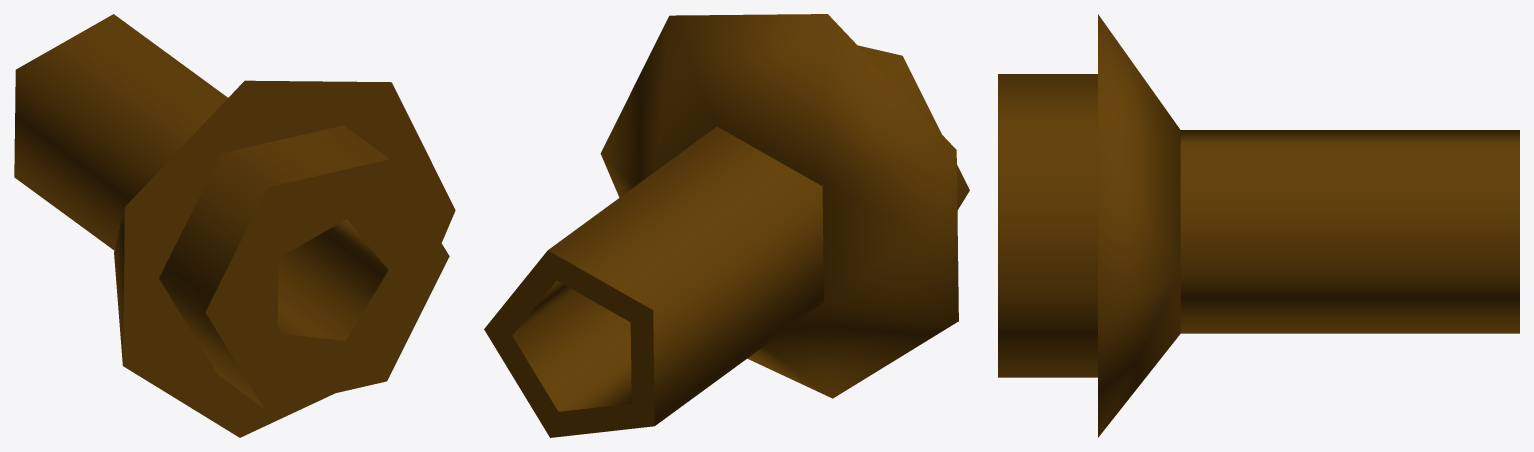
Rendered from Siete Roue dente_Roue etoile Heures.obj.
3 renders of one model, left to right at view 1: azimuth 30°, elevation 25°; view 2: azimuth 150°, elevation 25°; view 3: azimuth 270°, elevation 25°, orthographic. The views are drawn at different scales.
Visible parts, largest first — view 1: Face_4, Face_6, Face_2, Face_5, Face_7, Face_3; view 2: Face_3, Face_2, Face_1, Face_7, Face_5; view 3: Face_2, Face_5, Face_3.
Part boxes in pixels (bbox=[...]): Face_4: bbox=[123, 80, 455, 437]; Face_6: bbox=[205, 159, 449, 409]; Face_2: bbox=[14, 14, 227, 250]; Face_5: bbox=[159, 125, 389, 408]; Face_7: bbox=[277, 219, 388, 340]; Face_3: bbox=[114, 207, 124, 365]; Face_3: bbox=[600, 14, 958, 398]; Face_2: bbox=[548, 126, 823, 425]; Face_1: bbox=[484, 250, 654, 437]; Face_7: bbox=[512, 281, 631, 411]; Face_5: bbox=[858, 45, 969, 209]; Face_2: bbox=[1180, 130, 1519, 333]; Face_5: bbox=[998, 74, 1097, 377]; Face_3: bbox=[1098, 14, 1180, 437].
Size of the model in its own units: 0.00953 by 0.00975 by 0.012.
